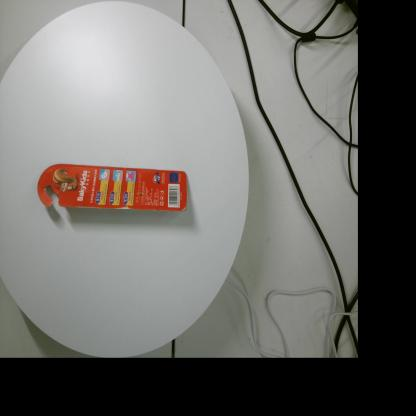Personal Hygiene: (37, 164, 187, 212)
